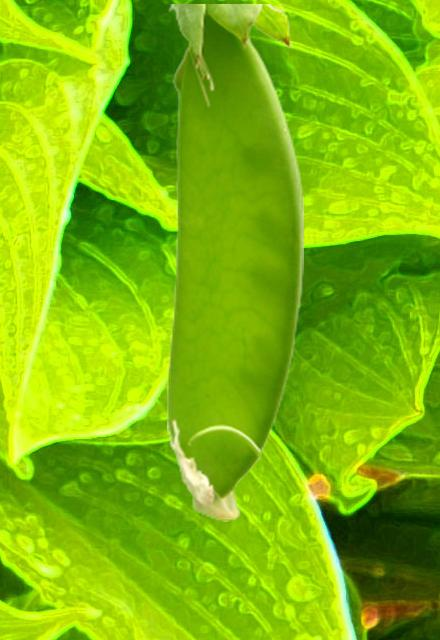pea: (167, 4, 302, 520)
